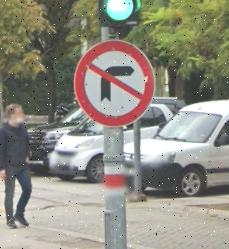rightturnsareforbidden: (72, 40, 154, 126)
